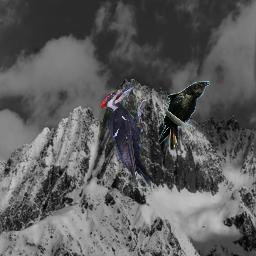Crow: (158, 81, 210, 151)
Woodpecker: (99, 82, 154, 187)
